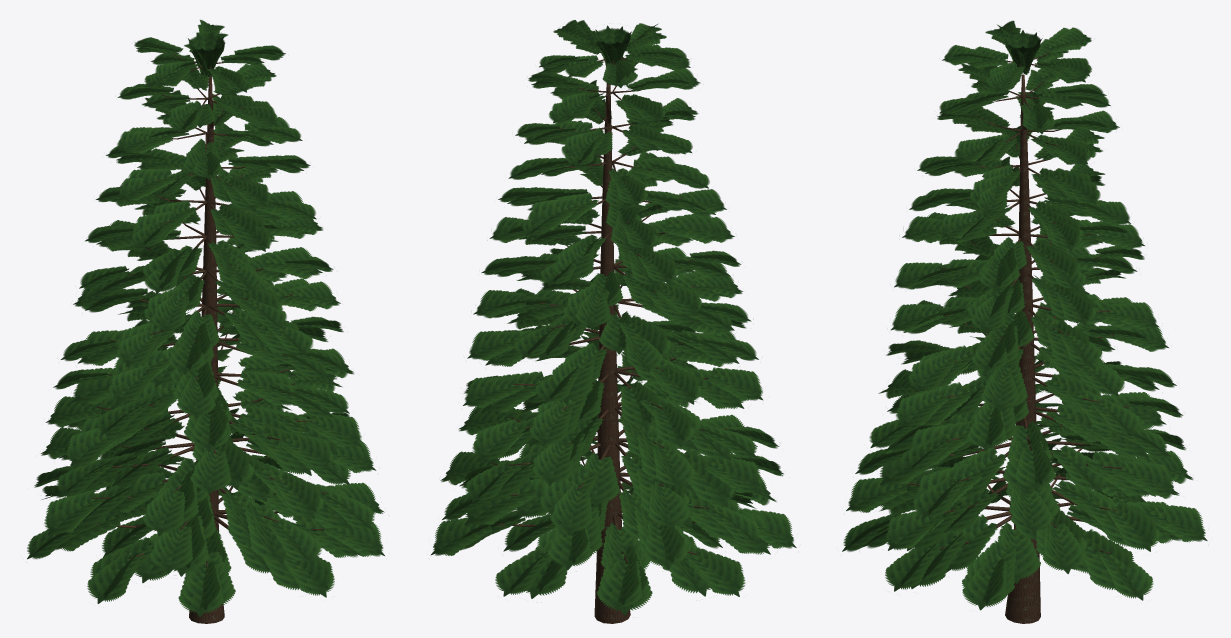
The model's file is tree_cedar.glb.
The picture shows the model from 3 angles, left to right: view 1: azimuth 30°, elevation 25°; view 2: azimuth 150°, elevation 25°; view 3: azimuth 270°, elevation 25°; orthographic projection.
Parts seen in each view (by area): view 1: CedarFoliage, CedarTrunk; view 2: CedarFoliage, CedarTrunk; view 3: CedarFoliage, CedarTrunk.
Part boxes in pixels (bbox=[...]): CedarFoliage: bbox=[27, 20, 384, 617]; CedarTrunk: bbox=[91, 54, 326, 623]; CedarFoliage: bbox=[430, 20, 796, 615]; CedarTrunk: bbox=[484, 38, 726, 623]; CedarFoliage: bbox=[842, 20, 1207, 610]; CedarTrunk: bbox=[907, 52, 1129, 623].
Size of the model in its own units: 9.23 by 15.68 by 9.4.
Materials: 2 (2 with a texture image).
